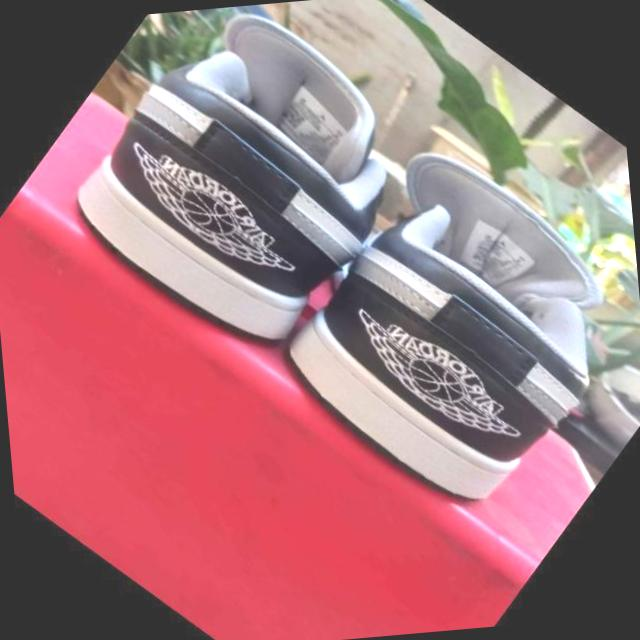nike_fake_jordan: (238, 105, 640, 546), (33, 0, 462, 390)
